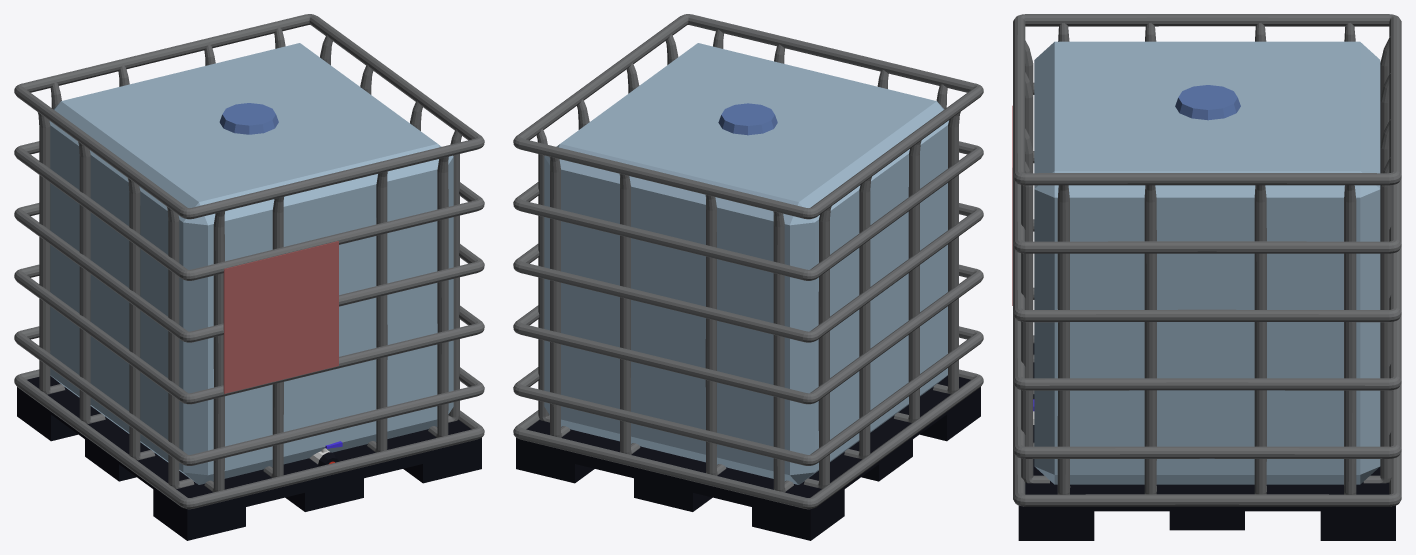
Rendered from WaterTank.glb.
3 renders of one model, left to right at view 1: azimuth 30°, elevation 25°; view 2: azimuth 150°, elevation 25°; view 3: azimuth 270°, elevation 25°, orthographic. The views are drawn at different scales.
Visible parts, largest first — view 1: tankbox, pipe part.007, platform, Cube, pipe part.005, pipe part.001, pipe part, pipe part.004, pipe part.002, pipe part.003, Cylinder; view 2: tankbox, pipe part.007, platform, pipe part.005, pipe part.002, pipe part.003, pipe part.001, pipe part.004, pipe part, Cylinder; view 3: tankbox, pipe part.007, pipe part.005, platform, pipe part.002, pipe part.001, pipe part.004, pipe part.003, pipe part, Cylinder.
Part boxes in pixels (left/top/right/bottom): tankbox: left=49, top=43, right=453, bottom=484; pipe part.007: left=37, top=26, right=461, bottom=492; platform: left=17, top=376, right=481, bottom=540; Cube: left=223, top=241, right=338, bottom=393; pipe part.005: left=14, top=14, right=484, bottom=219; pipe part.001: left=14, top=326, right=484, bottom=465; pipe part: left=14, top=369, right=484, bottom=509; pipe part.004: left=14, top=141, right=484, bottom=280; pipe part.002: left=14, top=264, right=484, bottom=404; pipe part.003: left=14, top=203, right=484, bottom=342; Cylinder: left=219, top=103, right=278, bottom=134; tankbox: left=544, top=43, right=948, bottom=484; pipe part.007: left=536, top=29, right=960, bottom=492; platform: left=516, top=375, right=980, bottom=540; pipe part.005: left=513, top=14, right=983, bottom=219; pipe part.002: left=513, top=264, right=983, bottom=404; pipe part.003: left=513, top=203, right=983, bottom=342; pipe part.001: left=513, top=326, right=983, bottom=465; pipe part.004: left=513, top=141, right=983, bottom=280; pipe part: left=513, top=369, right=983, bottom=509; Cylinder: left=718, top=103, right=777, bottom=135; tankbox: left=1034, top=41, right=1380, bottom=484; pipe part.007: left=1021, top=23, right=1392, bottom=494; pipe part.005: left=1013, top=14, right=1401, bottom=185; platform: left=1018, top=343, right=1395, bottom=540; pipe part.002: left=1013, top=219, right=1401, bottom=390; pipe part.001: left=1013, top=287, right=1401, bottom=458; pipe part.004: left=1013, top=82, right=1401, bottom=253; pipe part.003: left=1013, top=151, right=1401, bottom=322; pipe part: left=1013, top=335, right=1401, bottom=506; Cylinder: left=1175, top=85, right=1240, bottom=120.
Bounding box in the file's own units: 1.03 × 1.07 × 1.03.
